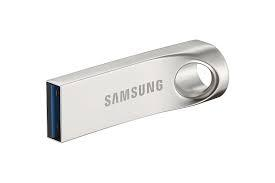Flash-drive: (45, 34, 230, 145)
